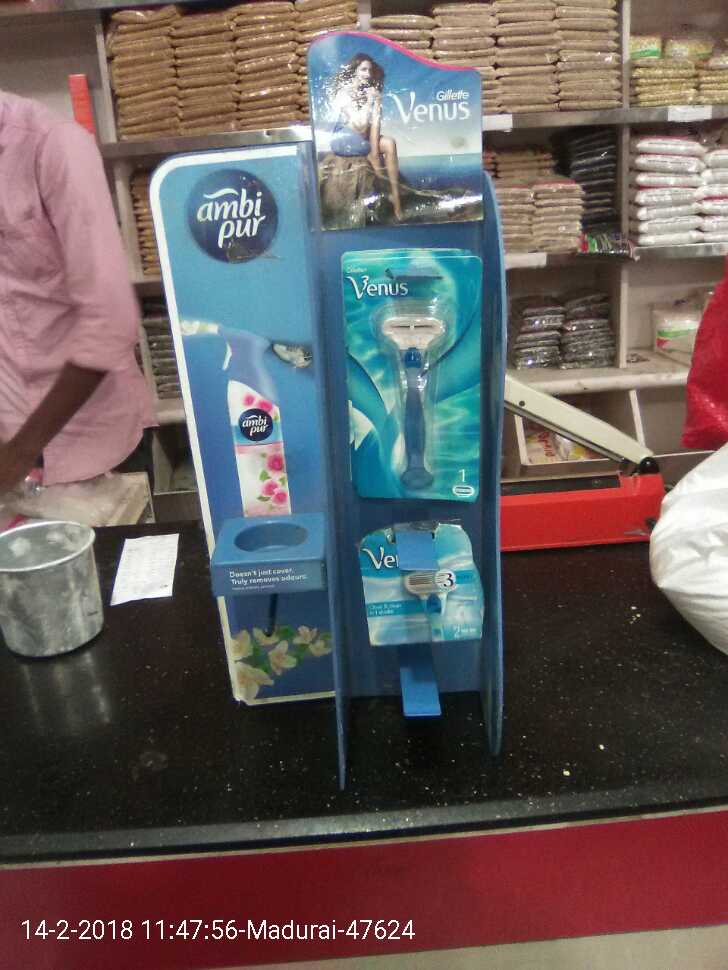venus: (337, 237, 508, 513), (354, 514, 489, 647)
